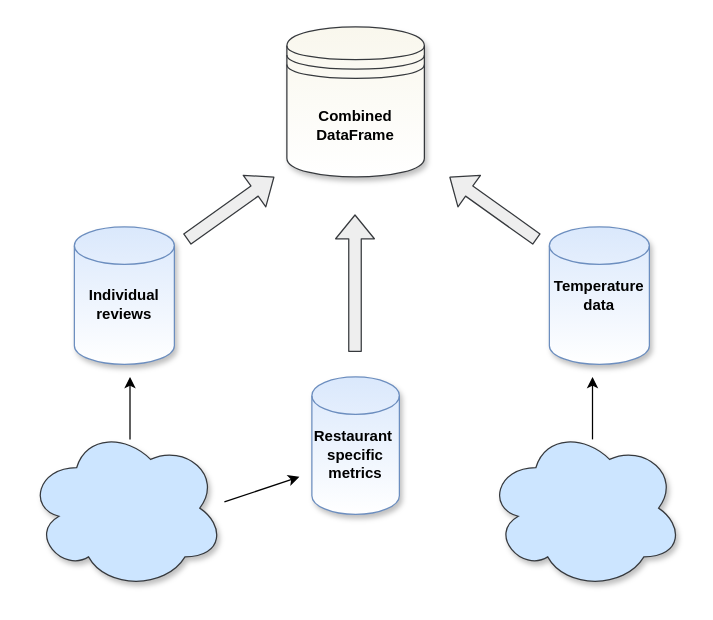
Some shapes in this 713 by 620 pixel diagram are drawn without their labels. Each missing label, with the centre of its shape:
"DMI" goes at point (586, 509).
"Tripadvisor" goes at point (126, 509).
